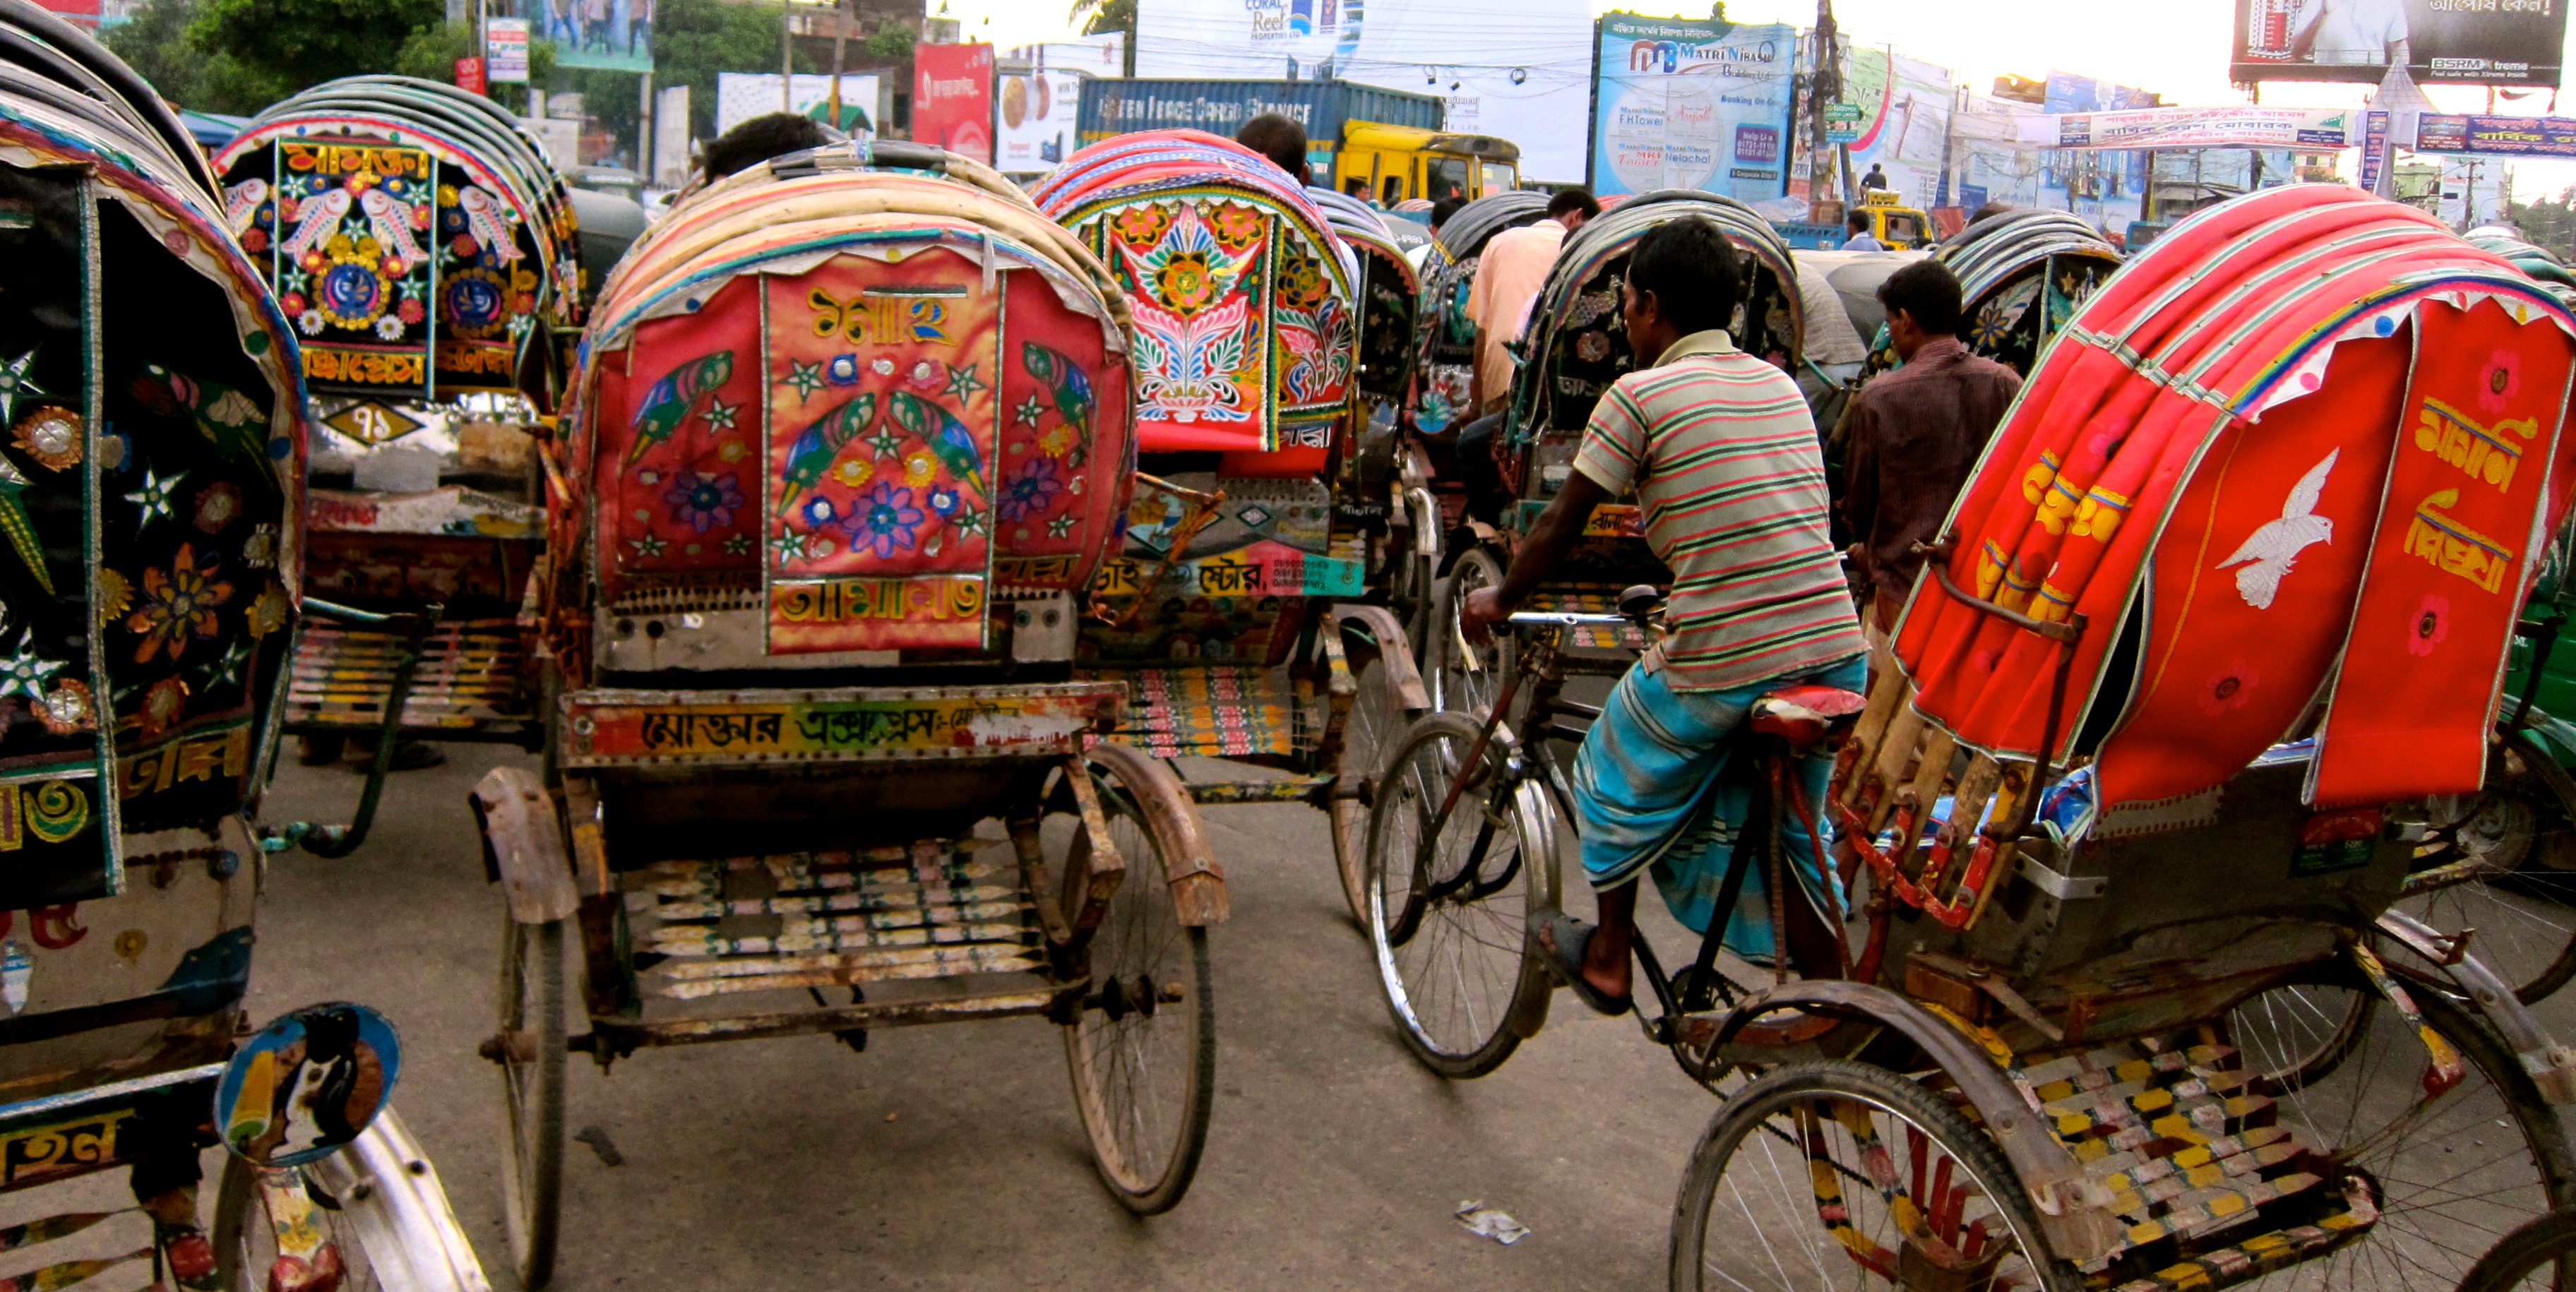Rickshaw: (1394, 104, 2563, 1280), (590, 135, 1229, 1228), (20, 36, 471, 1289), (1071, 92, 1417, 967), (244, 26, 649, 771), (1559, 152, 1861, 811), (1940, 188, 2143, 503)
